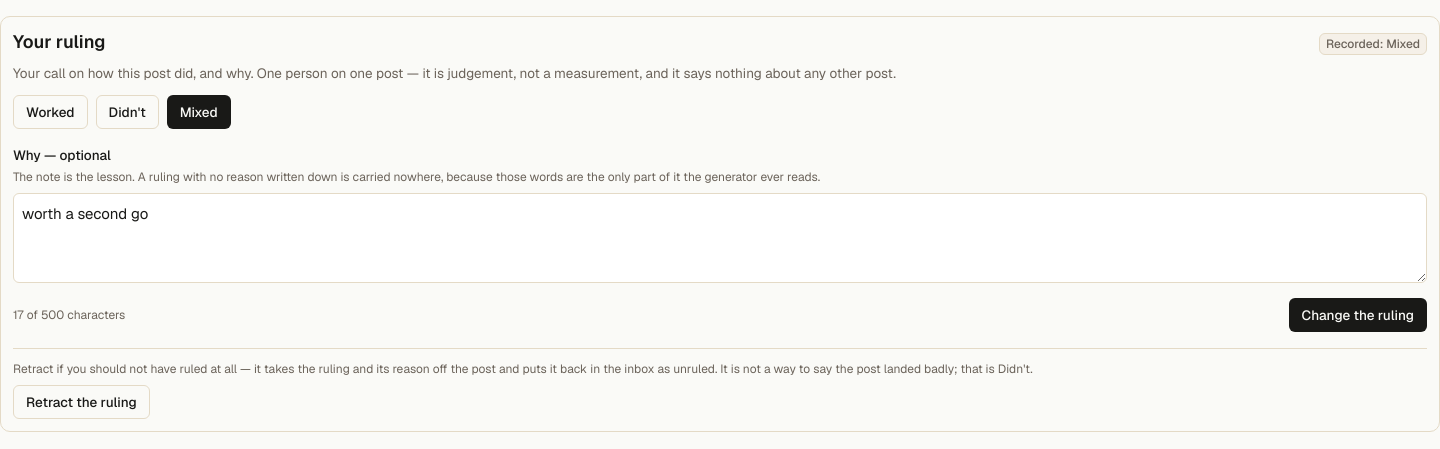
Test: retracting a ruling › sends a null verdict and an empty note, then stops offering itself
Click the button "Retract the ruling" at (81, 402), box [13,385,150,419]
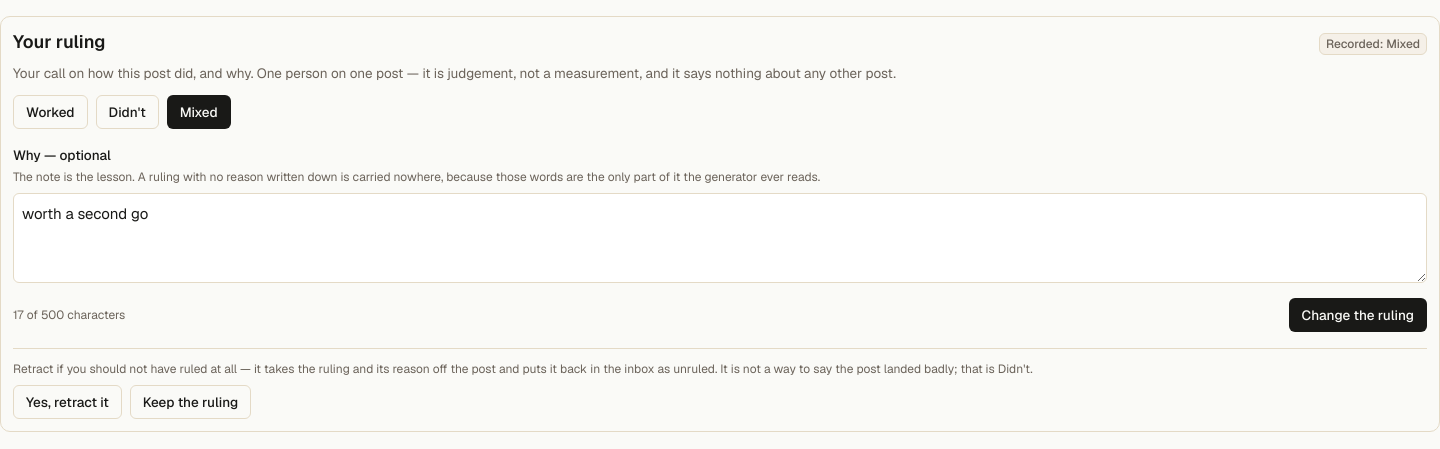
Click the button "Yes, retract it" at (67, 402), box [13,385,122,419]
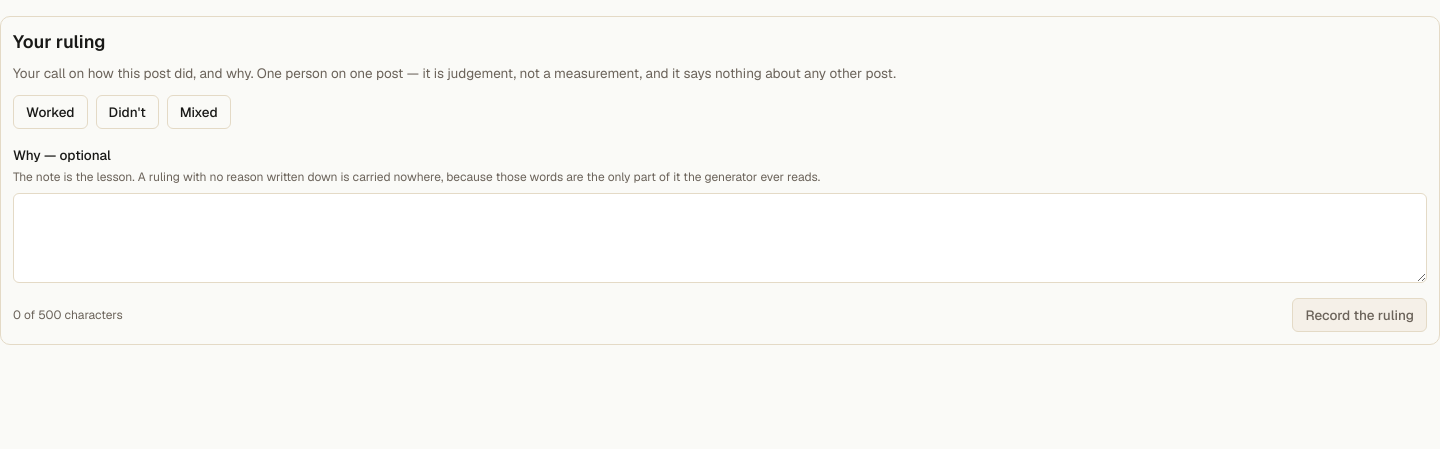
expect the button "Record the ruling" is shown: met, box [1292,298,1427,332]
expect the text "Recorded:" is gone: met
expect the text "Retract" is gone: met
